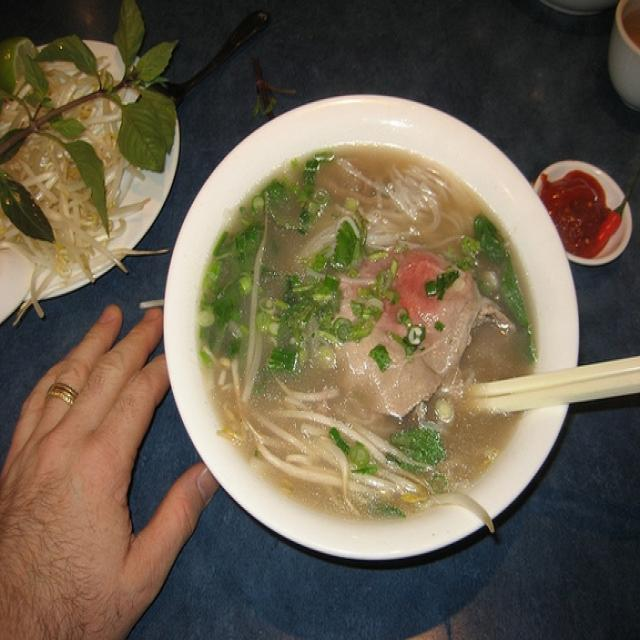面条主食: (160, 64, 583, 562)
